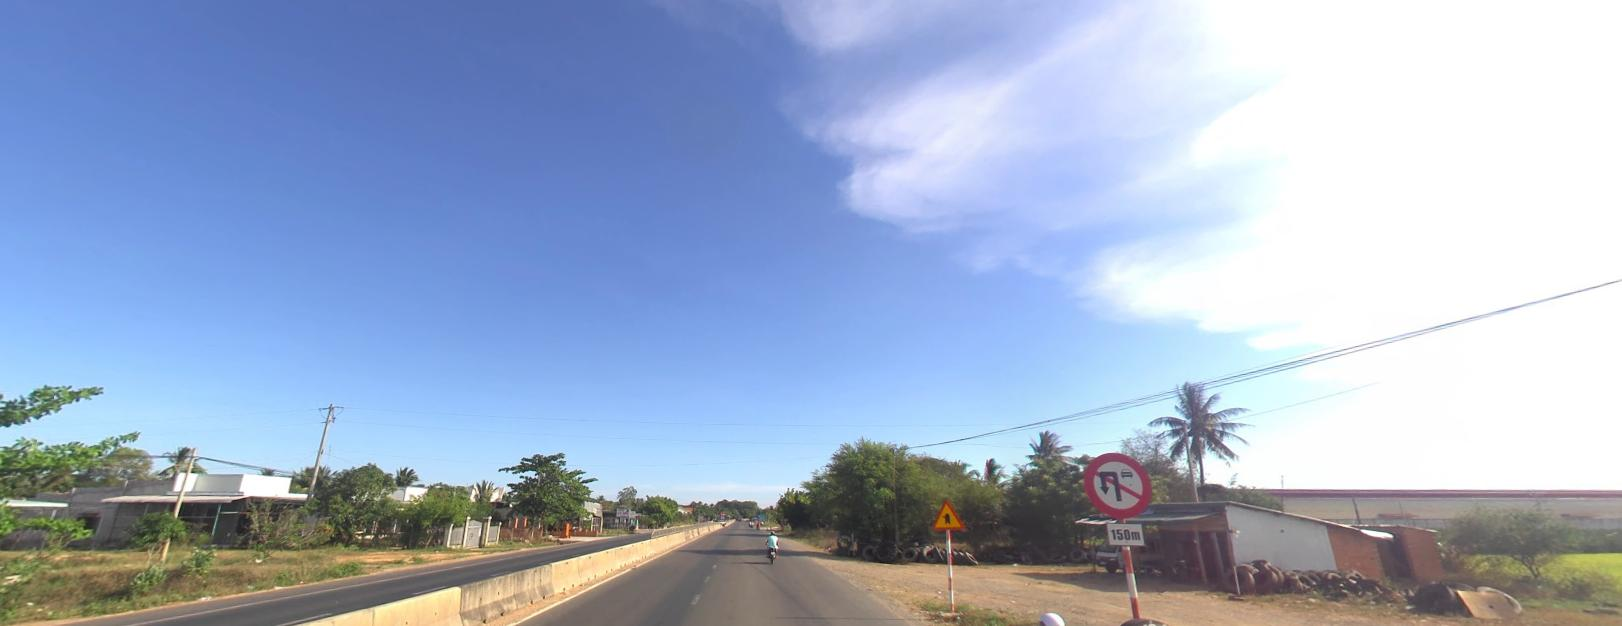Cam nguoc chieu: (721, 511, 725, 514)
Cam re: (1076, 445, 1152, 516)
Hieu lenh: (720, 514, 725, 518)
Nguy hiem: (929, 496, 967, 530)
